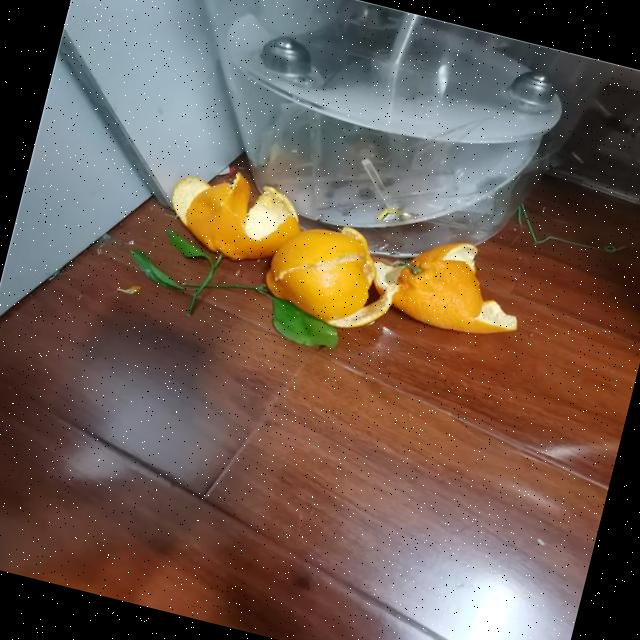orange-peel: (376, 223, 534, 347)
